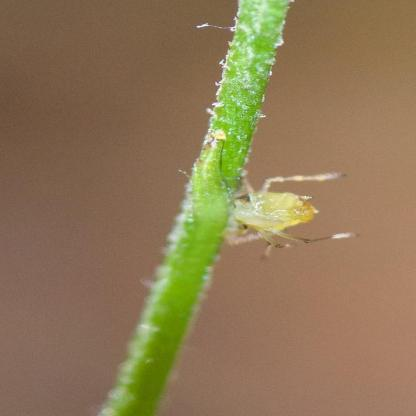aphid: (215, 157, 352, 270)
